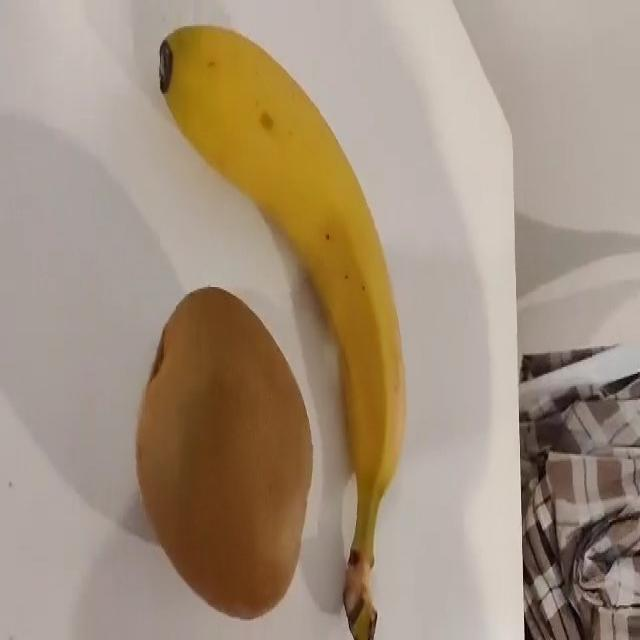Banana: (156, 23, 406, 638)
